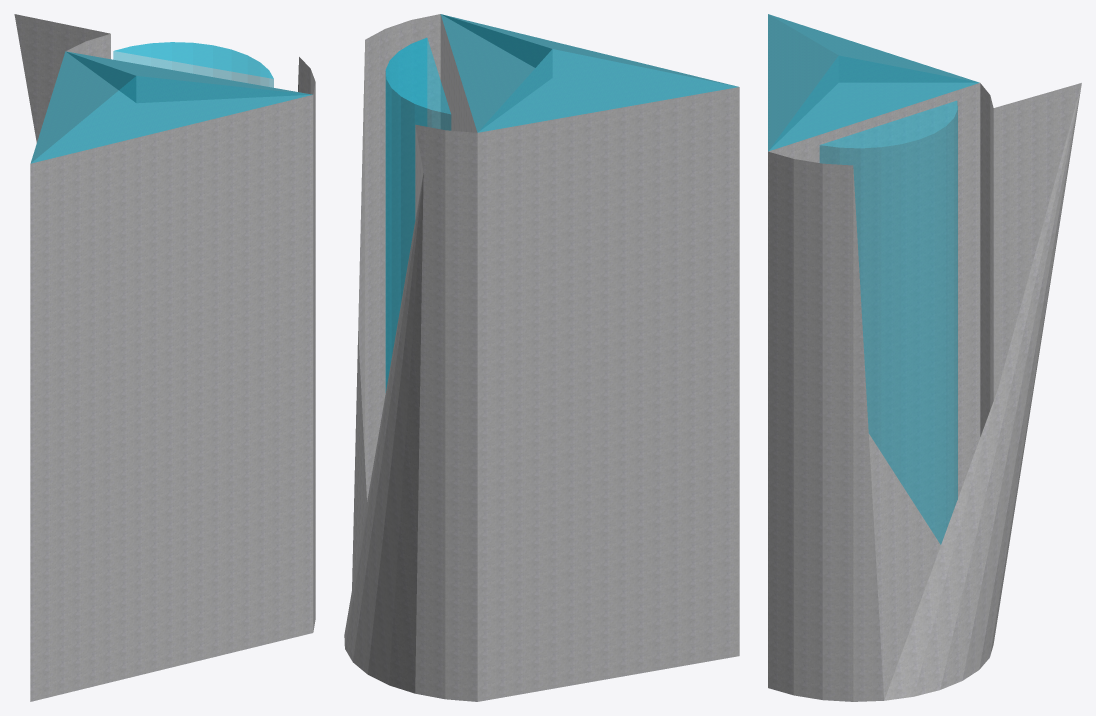
The model's file is colony-bank.fbx.
3 renders of one model, left to right at view 1: azimuth 30°, elevation 25°; view 2: azimuth 150°, elevation 25°; view 3: azimuth 270°, elevation 25°, orthographic. The views are drawn at different scales.
Parts seen in each view (by area): view 1: Component1; view 2: Component1; view 3: Component1.
Boxes of the visible parts, x1,y1,x2,y2 form: Component1: (14, 14, 315, 701); Component1: (344, 14, 739, 701); Component1: (768, 14, 1081, 701).
Bounding box in the file's own units: 30.89 × 53.61 × 27.05.
